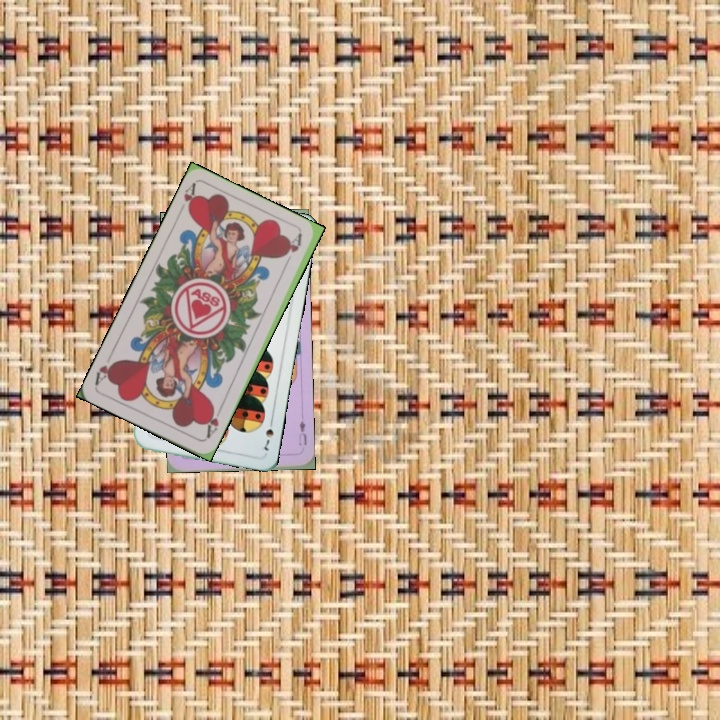EU: (295, 417, 309, 448)
HA: (201, 402, 224, 441), (179, 180, 200, 216)
S7: (258, 415, 276, 454)
